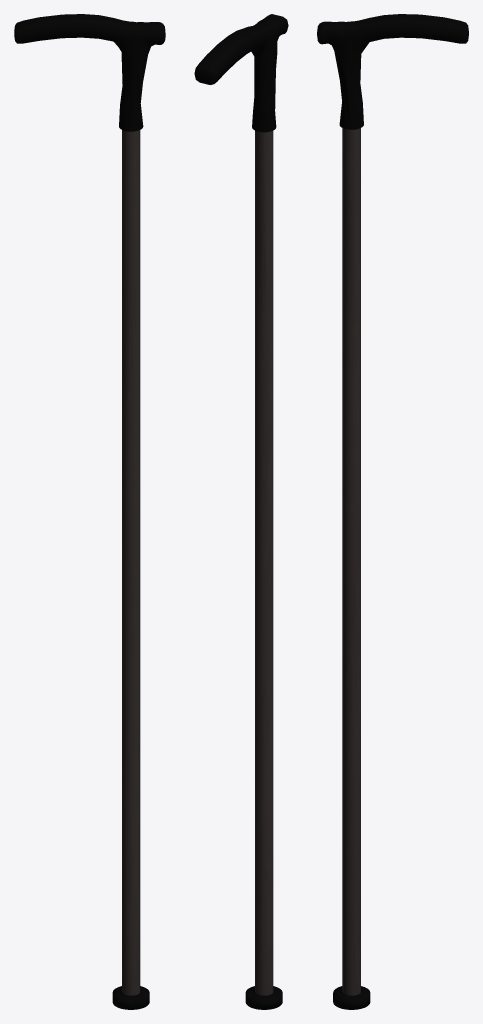
The model's file is walkingstick 1.fbx.
3 renders of one model, left to right at view 1: azimuth 90°, elevation 25°; view 2: azimuth 150°, elevation 25°; view 3: azimuth 270°, elevation 25°, orthographic.
Parts seen in each view (by area): view 1: pCylinder3; view 2: pCylinder3; view 3: pCylinder3.
Part boxes in pixels (left/top/right/bottom): pCylinder3: left=14, top=14, right=165, bottom=1009; pCylinder3: left=194, top=14, right=288, bottom=1009; pCylinder3: left=317, top=14, right=468, bottom=1009.
Size of the model in its own units: 3.21 by 93.74 by 13.06.
